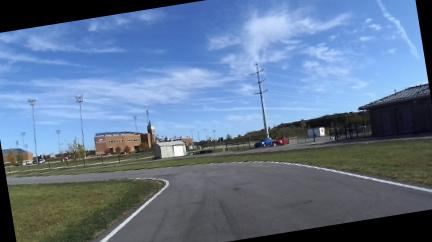Grass: (60, 139, 431, 185), (8, 180, 162, 241), (5, 151, 152, 176)
Lane: (6, 162, 431, 241)
